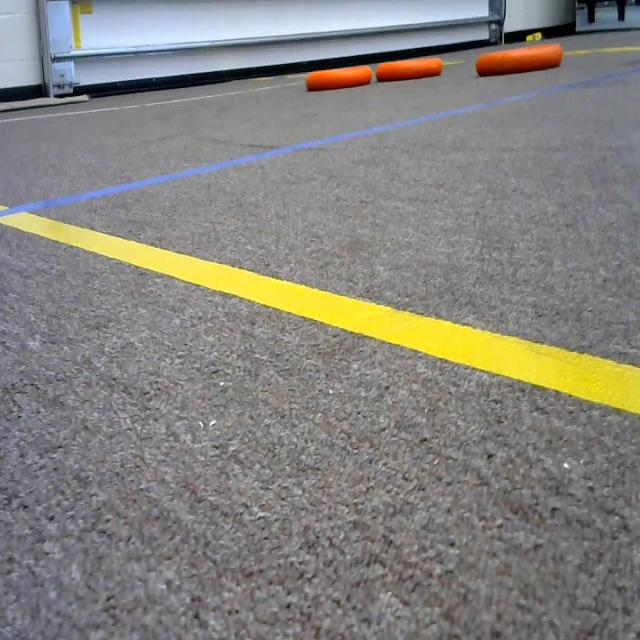note: (473, 45, 572, 81), (370, 51, 447, 91), (299, 62, 375, 94)
